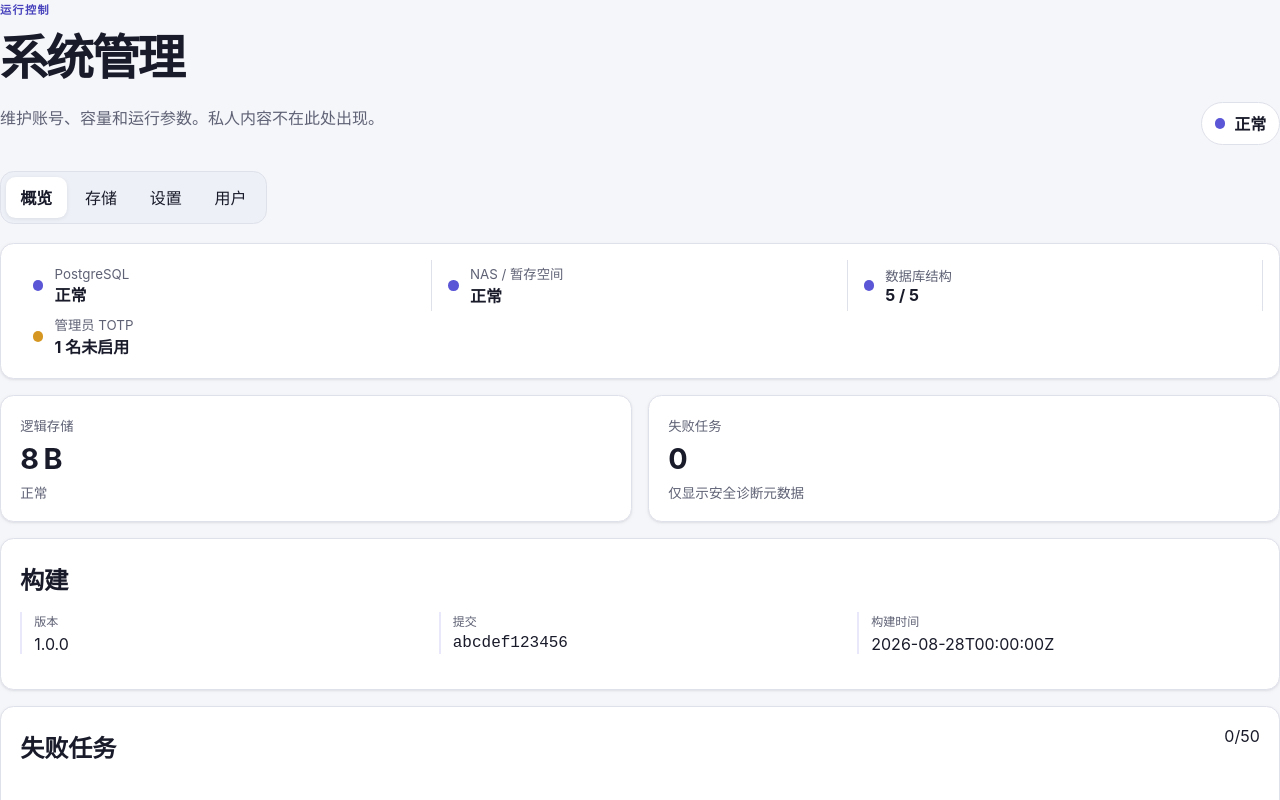
Scenario: admin operations › loads further admin users through the cursor instead of a hard cap
The width and height of the screenshot is (1280, 800).
Click the button "用户".
click(231, 197)  # box [200, 177, 261, 218]
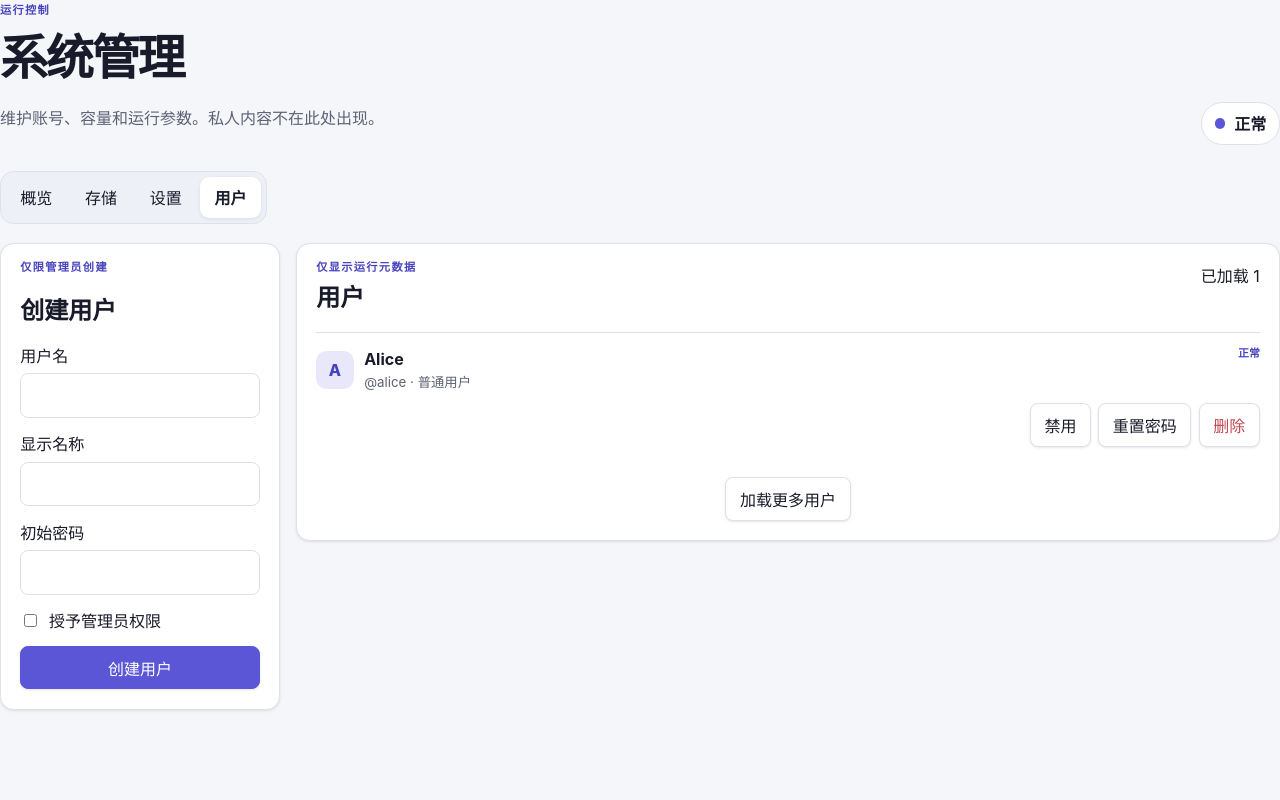
Expected: the text "bob" is not shown
Expected: the text "Alice" is shown, [364, 349, 404, 369]
Click the button "加载更多用户".
click(788, 499)  # box [725, 477, 851, 521]
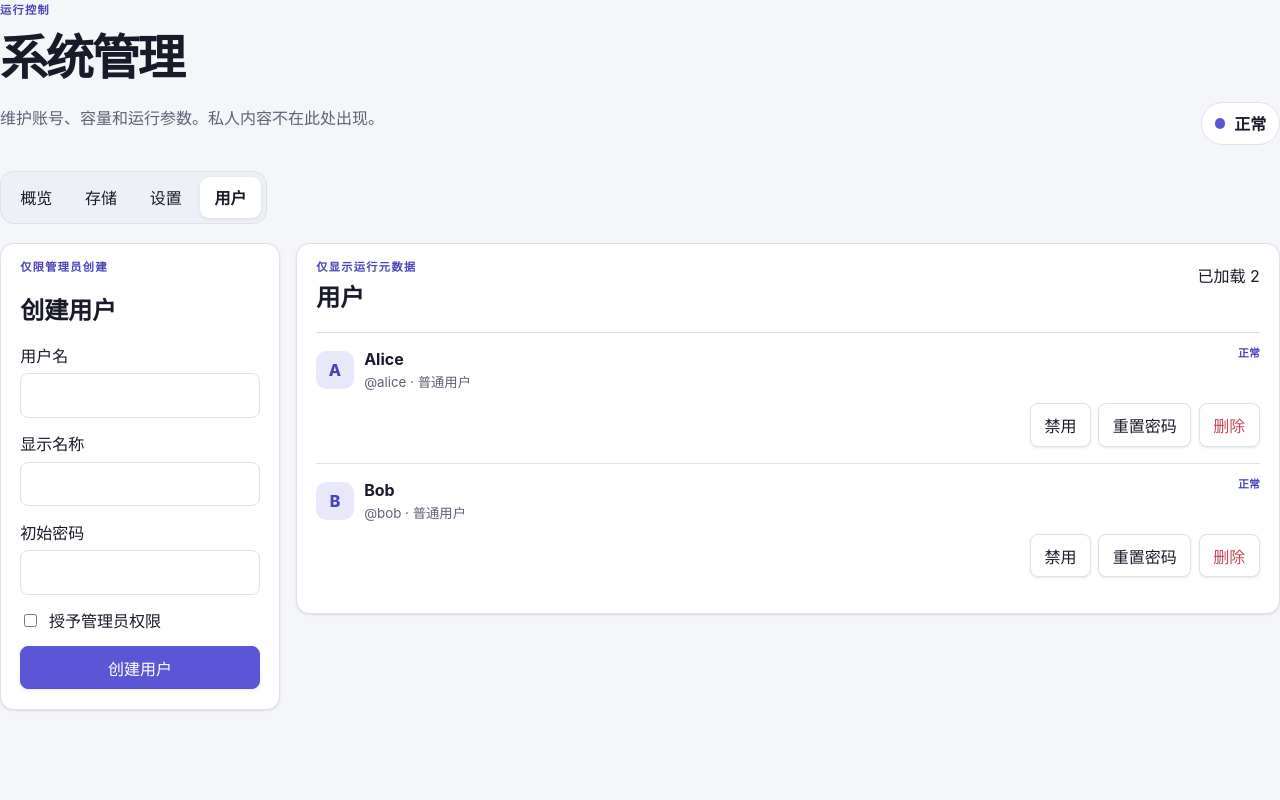
Expected: the text "Bob" is shown, [364, 480, 395, 500]
